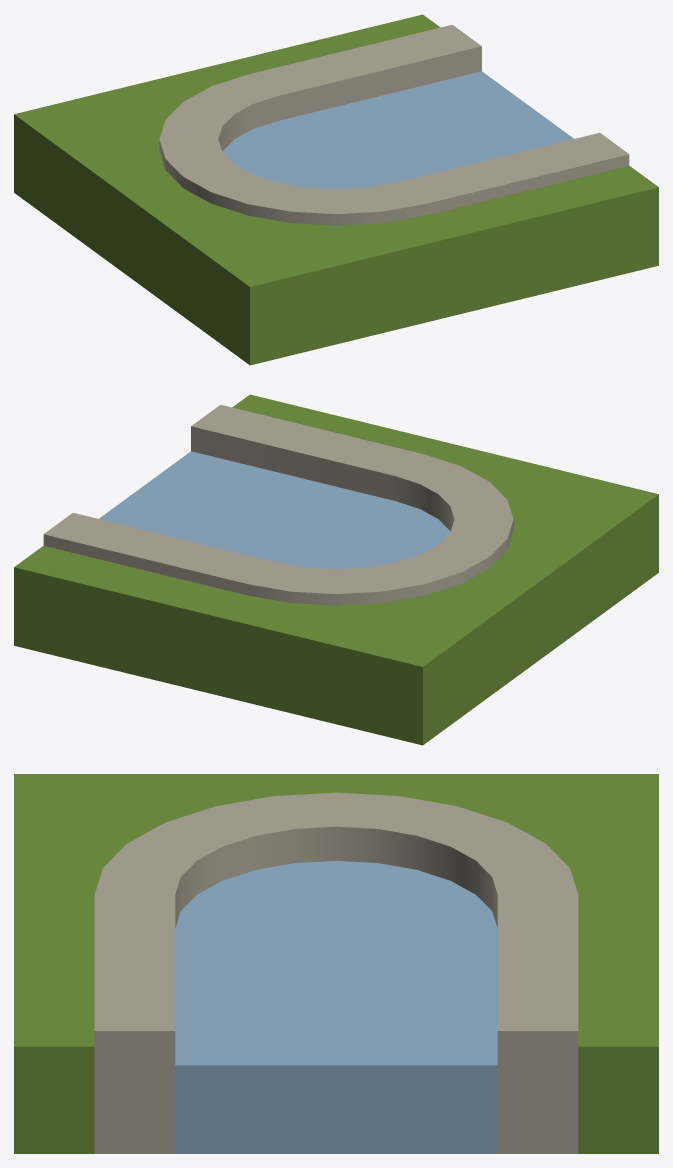
The model's file is roadTile_273.obj.
3 renders of one model, top to bottom at view 1: azimuth 30°, elevation 25°; view 2: azimuth 150°, elevation 25°; view 3: azimuth 270°, elevation 25°, orthographic. The views are drawn at different scales.
Parts seen in each view (by area): view 1: Mesh1_Group1_Model.038; view 2: Mesh1_Group1_Model.038; view 3: Mesh1_Group1_Model.038.
Part boxes in pixels (x1,y1,x2,y2): Mesh1_Group1_Model.038: (14,14,658,365); Mesh1_Group1_Model.038: (14,394,658,745); Mesh1_Group1_Model.038: (14,774,658,1153).
Size of the model in its own units: 3 by 0.63 by 3.
